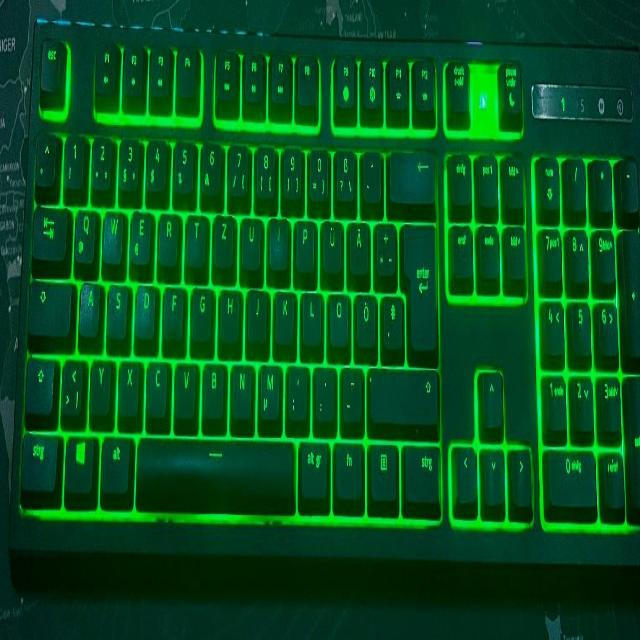0: (307, 140, 328, 201)
1: (62, 127, 84, 188)
2: (89, 130, 111, 189)
3: (117, 130, 139, 192)
4: (144, 132, 166, 193)
5: (172, 134, 194, 195)
6: (199, 135, 222, 198)
7: (226, 135, 248, 201)
8: (252, 138, 276, 203)
9: (280, 139, 302, 201)
a: (77, 277, 99, 335)
accent: (361, 144, 381, 199)
ae: (347, 215, 369, 273)
alt-left: (98, 429, 130, 496)
altgr-right: (297, 435, 328, 502)
b: (200, 356, 224, 418)
c: (144, 354, 167, 417)
caret: (34, 128, 55, 185)
comma: (285, 359, 308, 422)
d: (133, 279, 155, 338)
del: (388, 143, 435, 200)
e: (129, 204, 151, 264)
enter: (400, 214, 436, 353)
f: (161, 280, 183, 339)
g: (189, 281, 211, 341)
h: (217, 283, 239, 342)
hash: (380, 288, 402, 348)
i: (267, 212, 287, 267)
j: (245, 283, 267, 342)
k: (273, 284, 294, 342)
keyboard: (3, 20, 640, 574)
l: (300, 285, 321, 344)
less: (59, 352, 83, 418)
m: (257, 357, 280, 423)
minus: (340, 361, 362, 421)
n: (230, 357, 252, 418)
o: (327, 286, 348, 346)
oe: (354, 287, 376, 346)
p: (293, 214, 315, 269)
plus: (373, 215, 395, 276)
point: (312, 360, 335, 423)
q: (73, 202, 95, 262)
r: (157, 207, 179, 263)
s: (105, 278, 127, 339)
shift-left: (23, 352, 54, 412)
shift-lock: (27, 275, 71, 335)
shift-right: (368, 361, 437, 421)
space: (133, 432, 295, 510)
ss: (333, 143, 355, 202)
strg-left: (18, 427, 58, 491)
strg-right: (402, 437, 441, 504)
t: (184, 208, 206, 265)
tab: (30, 201, 67, 258)
u: (239, 212, 261, 268)
ue: (320, 214, 342, 271)
v: (173, 355, 196, 418)
w: (101, 203, 123, 262)
x: (117, 354, 139, 414)
y: (88, 353, 110, 413)
z: (212, 209, 233, 265)
